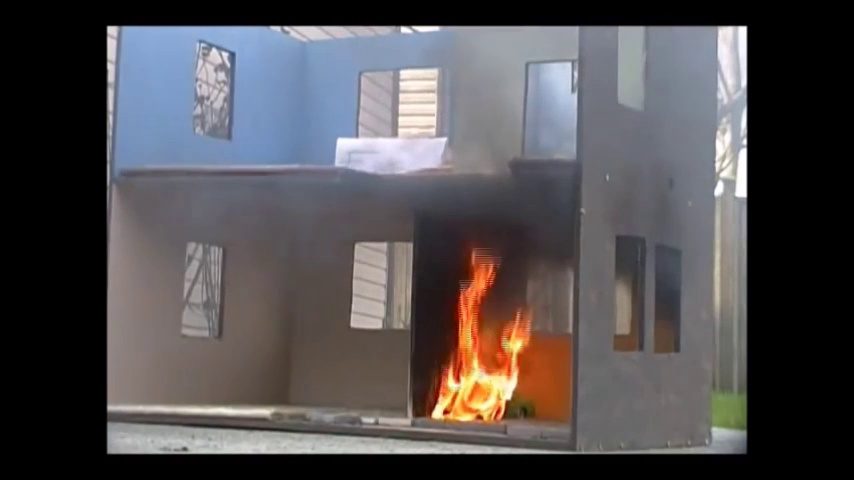fire: (436, 262, 533, 423)
